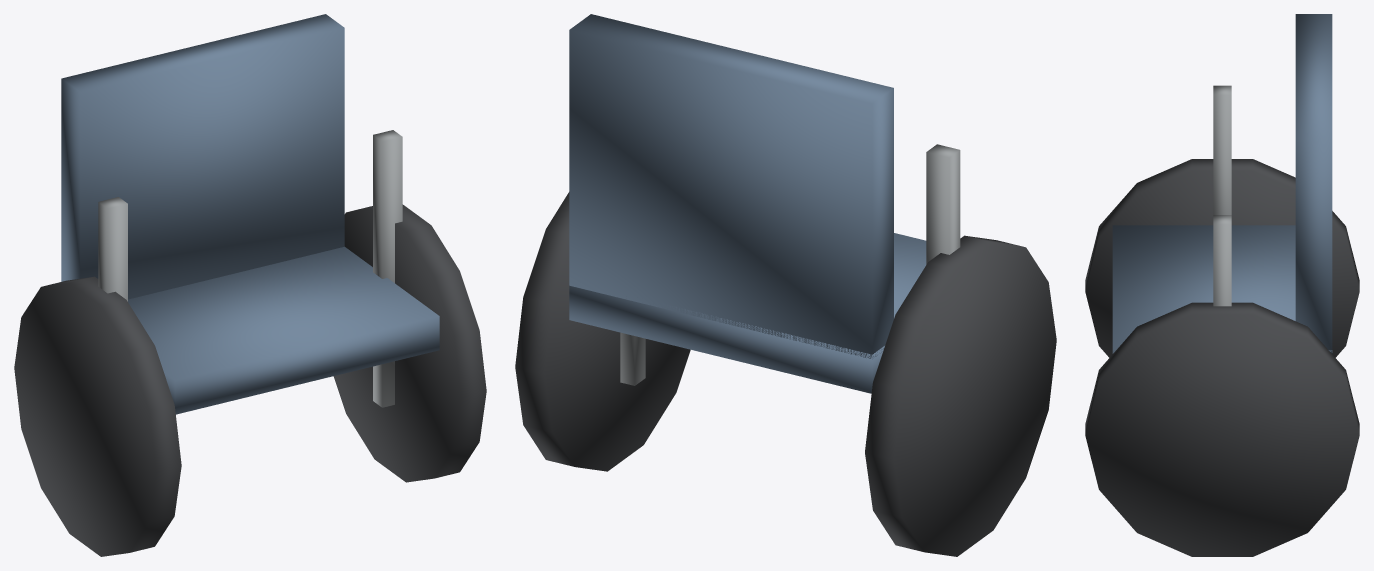
The model's file is wheelchair__wide.glb.
3 views of the same model, side by side, from view 1: azimuth 30°, elevation 25°; view 2: azimuth 150°, elevation 25°; view 3: azimuth 270°, elevation 25° (orthographic). The views are drawn at different scales.
Parts seen in each view (by area): view 1: world; view 2: world; view 3: world.
Boxes of the visible parts, bbox=[...] form: world: bbox=[14, 14, 486, 556]; world: bbox=[515, 14, 1056, 556]; world: bbox=[1085, 14, 1359, 556].
Bounding box in the file's own units: 0.806 × 0.9725 × 0.6.
